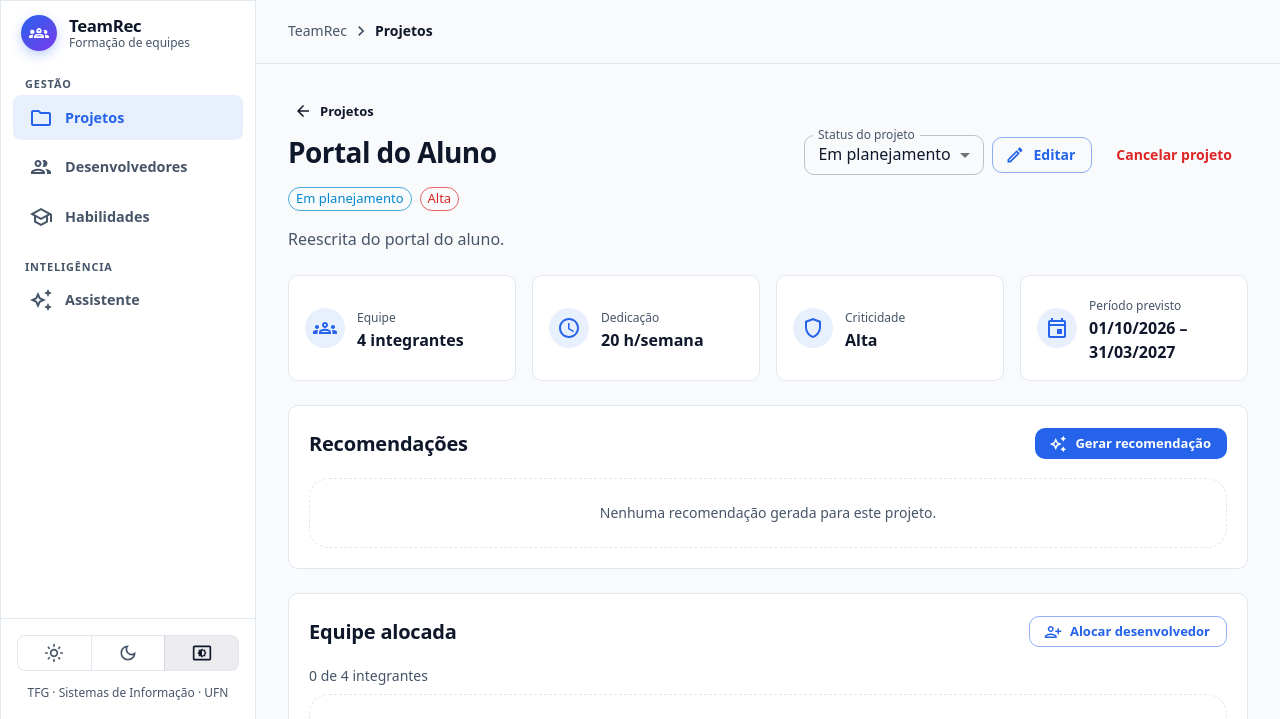
Test: detalhe do projeto › altera o status do projeto
This screenshot has width=1280, height=719.
expect the heading "Portal do Aluno" is shown: met, box 288,135 -> 496,170
Click the dropdown named "Status do projeto".
click(885, 154)  # box 818,143 -> 951,165
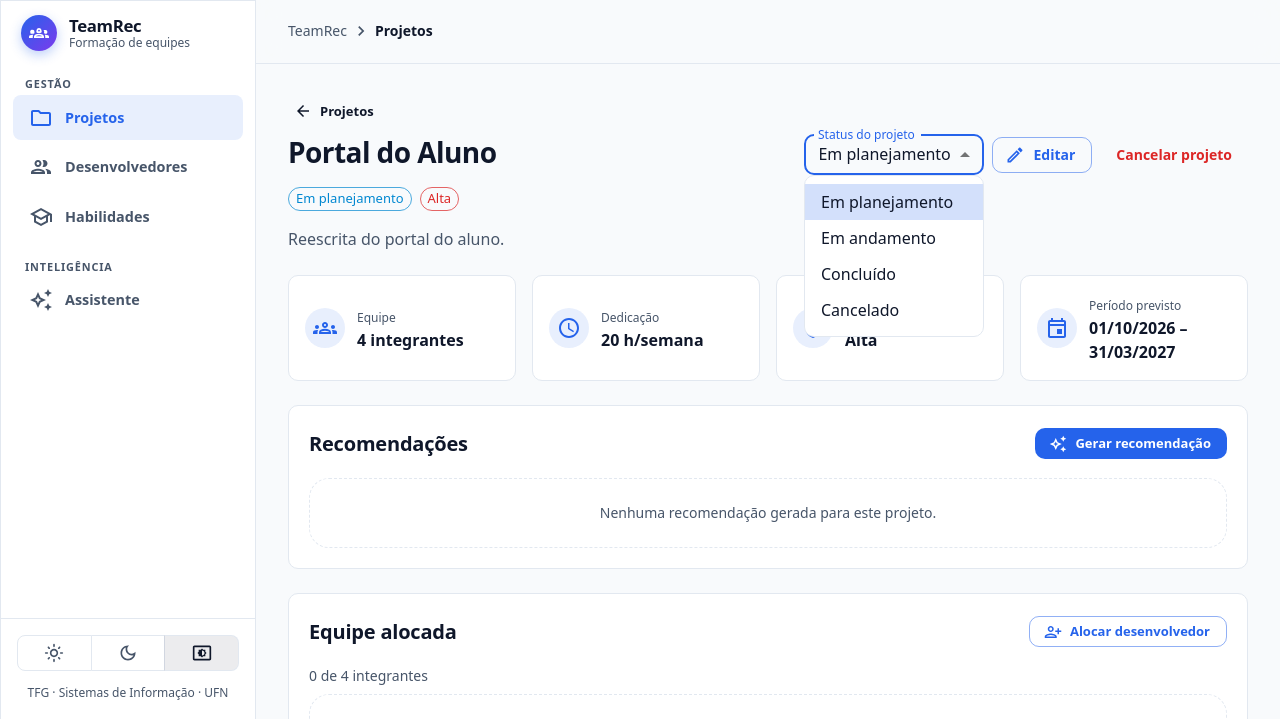
Click the option "Em andamento".
click(878, 238)  # box 821,227 -> 936,249
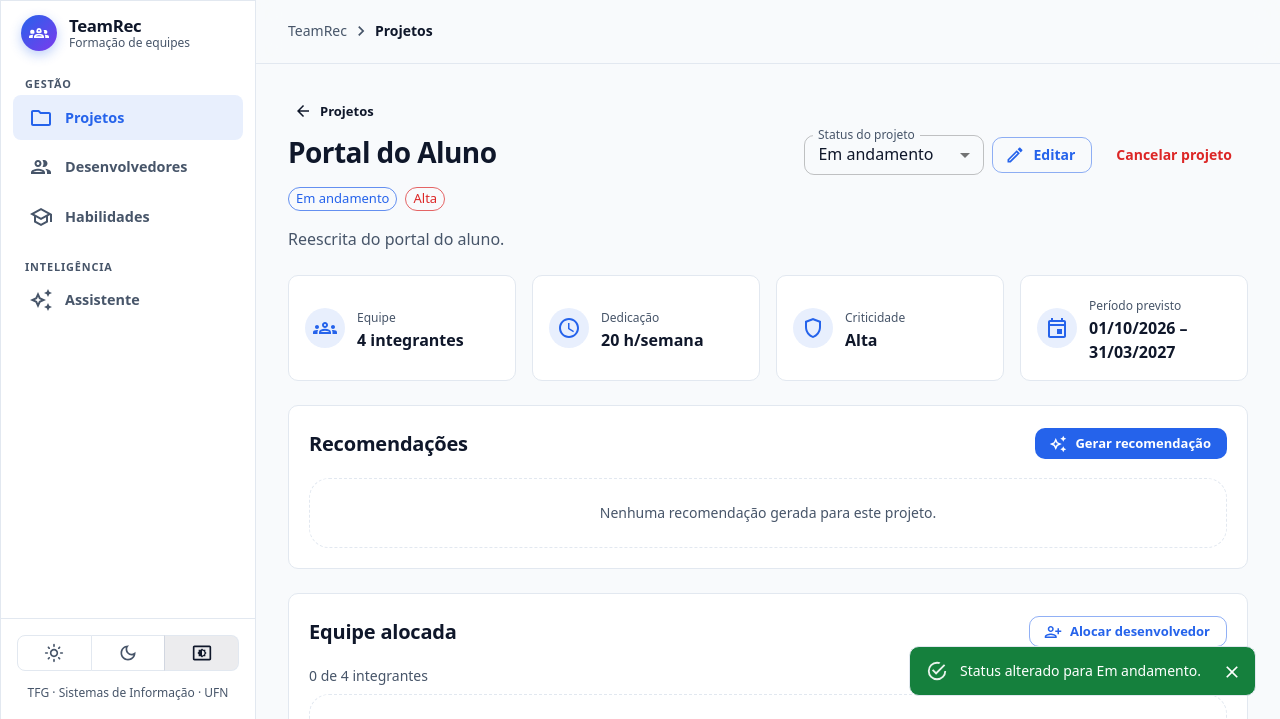
expect the text "Status alterado para Em andamento." is shown: met, box 960,661 -> 1201,680
